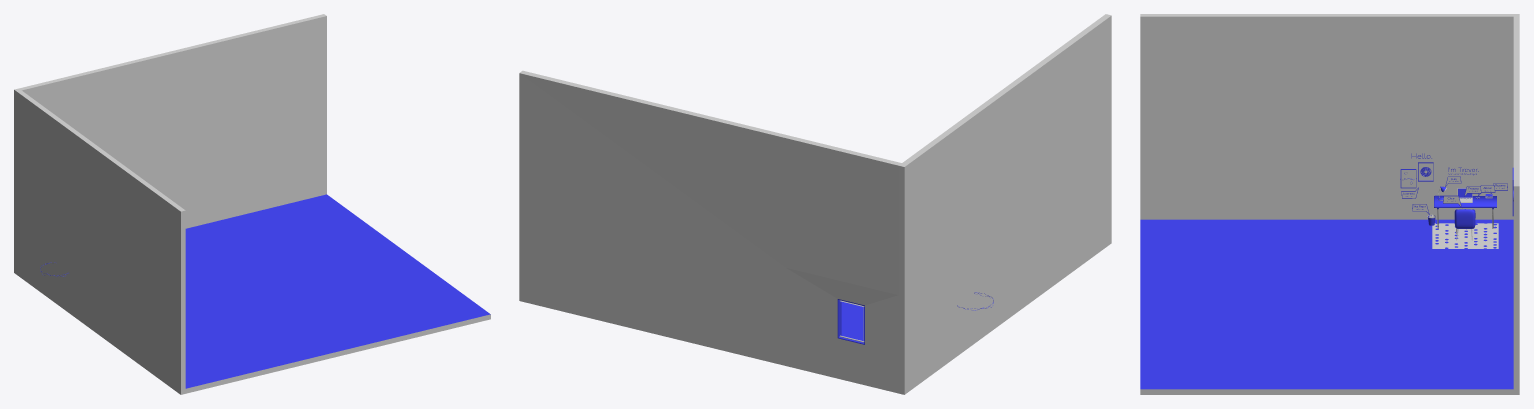
The model's file is iso-poly.gltf.
The picture shows the model from 3 angles, left to right: view 1: azimuth 30°, elevation 25°; view 2: azimuth 150°, elevation 25°; view 3: azimuth 270°, elevation 25°; orthographic projection. The views are drawn at different scales.
Parts seen in each view (by area): view 1: Room; view 2: Room; view 3: Room, Rug, Desk, Frames, Chair.
Part boxes in pixels (left/top/right/bottom): Room: left=14, top=14, right=490, bottom=394; Room: left=519, top=14, right=1111, bottom=394; Room: left=1140, top=14, right=1519, bottom=394; Rug: left=1432, top=223, right=1498, bottom=248; Desk: left=1434, top=195, right=1496, bottom=228; Frames: left=1400, top=162, right=1433, bottom=188; Chair: left=1454, top=209, right=1475, bottom=240.
Size of what is drawn, in the model's own units: 6.91 by 3.66 by 6.03.
